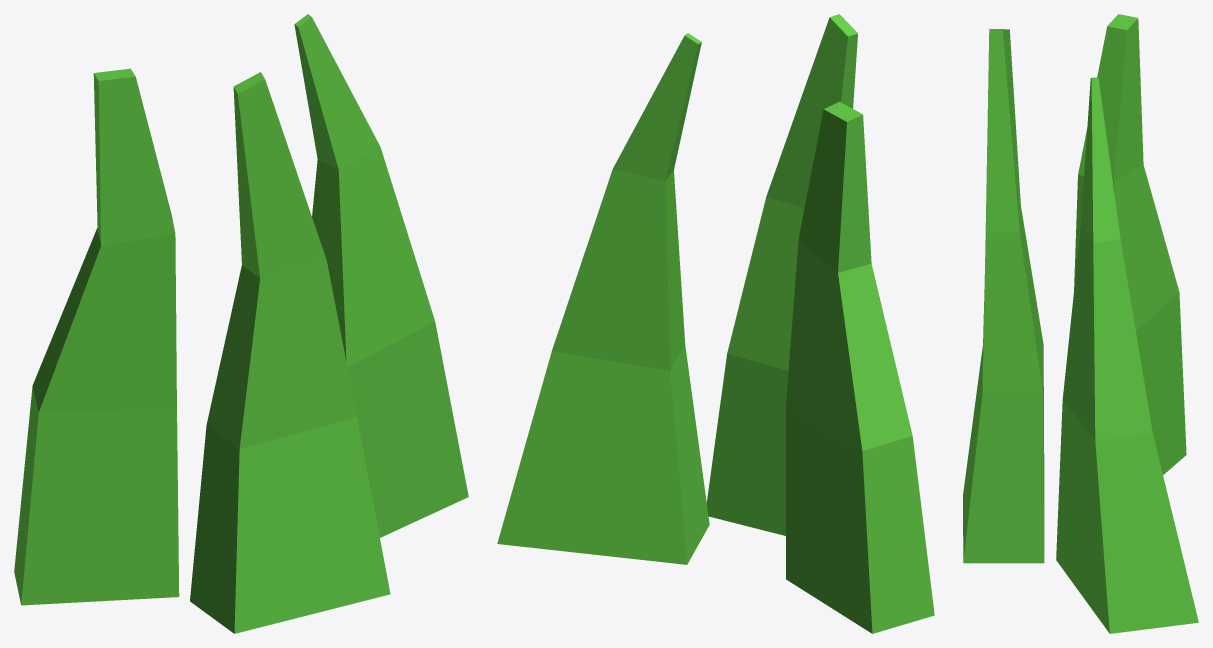
Rendered from Grass.fbx.
The picture shows the model from 3 angles, left to right: view 1: azimuth 30°, elevation 25°; view 2: azimuth 150°, elevation 25°; view 3: azimuth 270°, elevation 25°; orthographic projection. The views are drawn at different scales.
Visible parts, largest first — view 1: Cube.001; view 2: Cube.001; view 3: Cube.001.
Part boxes in pixels (x1,y1,x2,y2): Cube.001: (14,14,468,633); Cube.001: (497,14,934,633); Cube.001: (963,14,1198,633).
Size of the model in its own units: 0.5411 by 0.63 by 0.2745.
